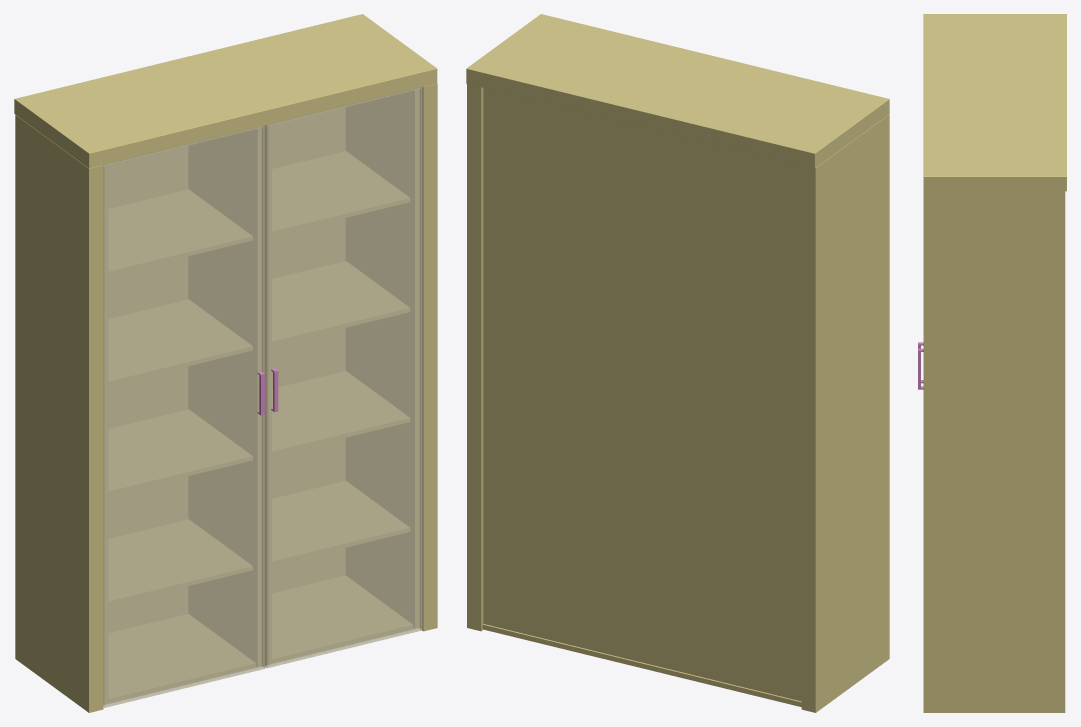
The model's file is cabinet.fbx.
The picture shows the model from 3 angles, left to right: view 1: azimuth 30°, elevation 25°; view 2: azimuth 150°, elevation 25°; view 3: azimuth 270°, elevation 25°; orthographic projection. The views are drawn at different scales.
Parts seen in each view (by area): view 1: Cabinet, Door-L, Door-R; view 2: Cabinet; view 3: Cabinet.
Part boxes in pixels (bbox=[...]): Cabinet: bbox=[14, 14, 437, 712]; Door-L: bbox=[103, 125, 264, 708]; Door-R: bbox=[265, 87, 422, 668]; Cabinet: bbox=[466, 14, 889, 712]; Cabinet: bbox=[923, 14, 1066, 712].
Bounding box in the file's own units: 231 × 355 × 89.37.
